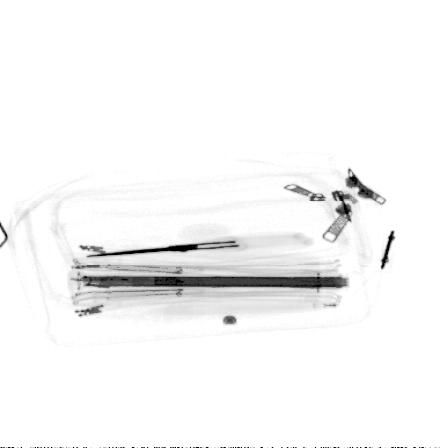Scissors: (85, 233, 249, 257)
